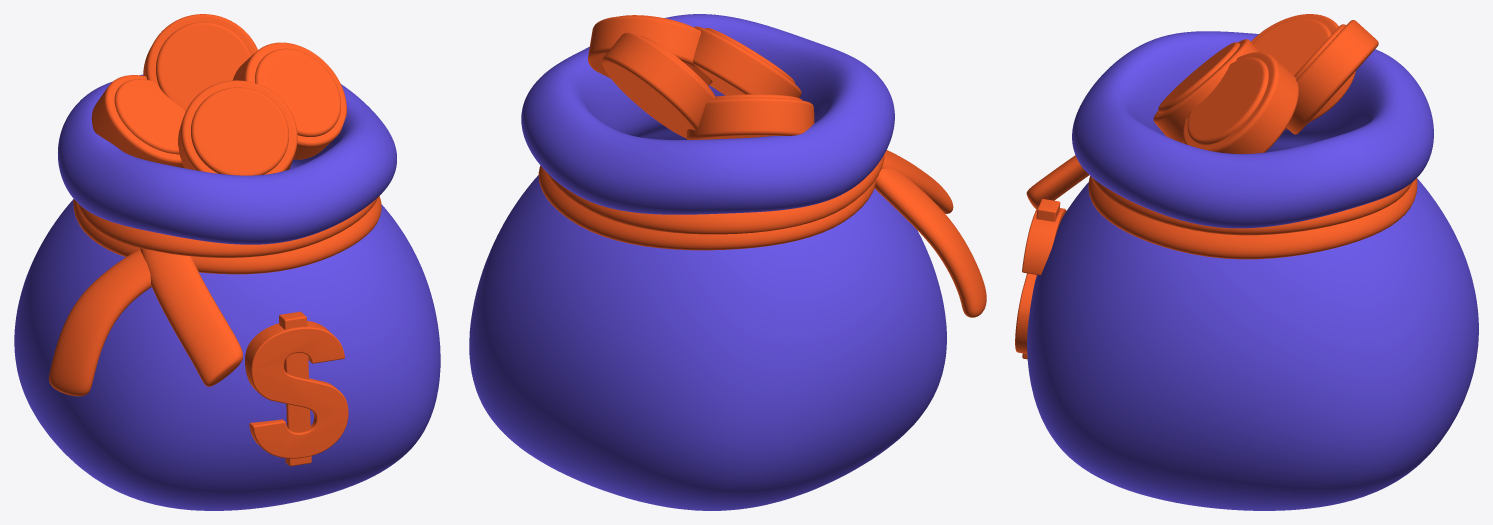
Rendered from Money Bag.glb.
3 renders of one model, left to right at view 1: azimuth 30°, elevation 25°; view 2: azimuth 150°, elevation 25°; view 3: azimuth 270°, elevation 25°, orthographic. The views are drawn at different scales.
Visible parts, largest first — view 1: Cube, Text, Cylinder.001, Cylinder.003, Cylinder.002, Cube.045, Cube.044, Cylinder, Cube.001, Cube.002; view 2: Cube, Cylinder.002, Cube.001, Cube.002, Cube.044, Cylinder, Cylinder.001, Cylinder.003, Cube.045; view 3: Cube, Cylinder.003, Cube.001, Cylinder.002, Cylinder, Cylinder.001, Cube.002, Text, Cube.045.
Part boxes in pixels (box(x1,y1,x2,y2)): Cube: box(14, 74, 440, 510); Text: box(245, 311, 348, 466); Cylinder.001: box(178, 80, 297, 175); Cylinder.003: box(232, 42, 346, 159); Cylinder.002: box(143, 14, 257, 110); Cube.045: box(140, 248, 242, 386); Cube.044: box(49, 248, 151, 396); Cylinder: box(91, 75, 185, 168); Cube.001: box(73, 196, 381, 274); Cube.002: box(77, 197, 377, 257); Cube: box(469, 14, 946, 510); Cylinder.002: box(602, 32, 715, 138); Cube.001: box(538, 165, 875, 250); Cube.002: box(544, 155, 884, 234); Cube.044: box(874, 168, 986, 317); Cylinder: box(686, 94, 814, 139); Cylinder.001: box(693, 26, 801, 97); Cylinder.003: box(588, 15, 712, 85); Cube.045: box(881, 150, 953, 213); Cube: box(1027, 31, 1478, 510); Cylinder.003: box(1183, 52, 1298, 153); Cube.001: box(1088, 176, 1417, 259); Cylinder.002: box(1286, 20, 1378, 134); Cylinder: box(1251, 14, 1355, 129); Cylinder.001: box(1153, 39, 1259, 143); Cube.002: box(1091, 177, 1412, 235); Text: box(1015, 199, 1066, 359); Cube.045: box(1026, 155, 1089, 209).
Size of the model in its own units: 3.72 by 3.85 by 3.53.
